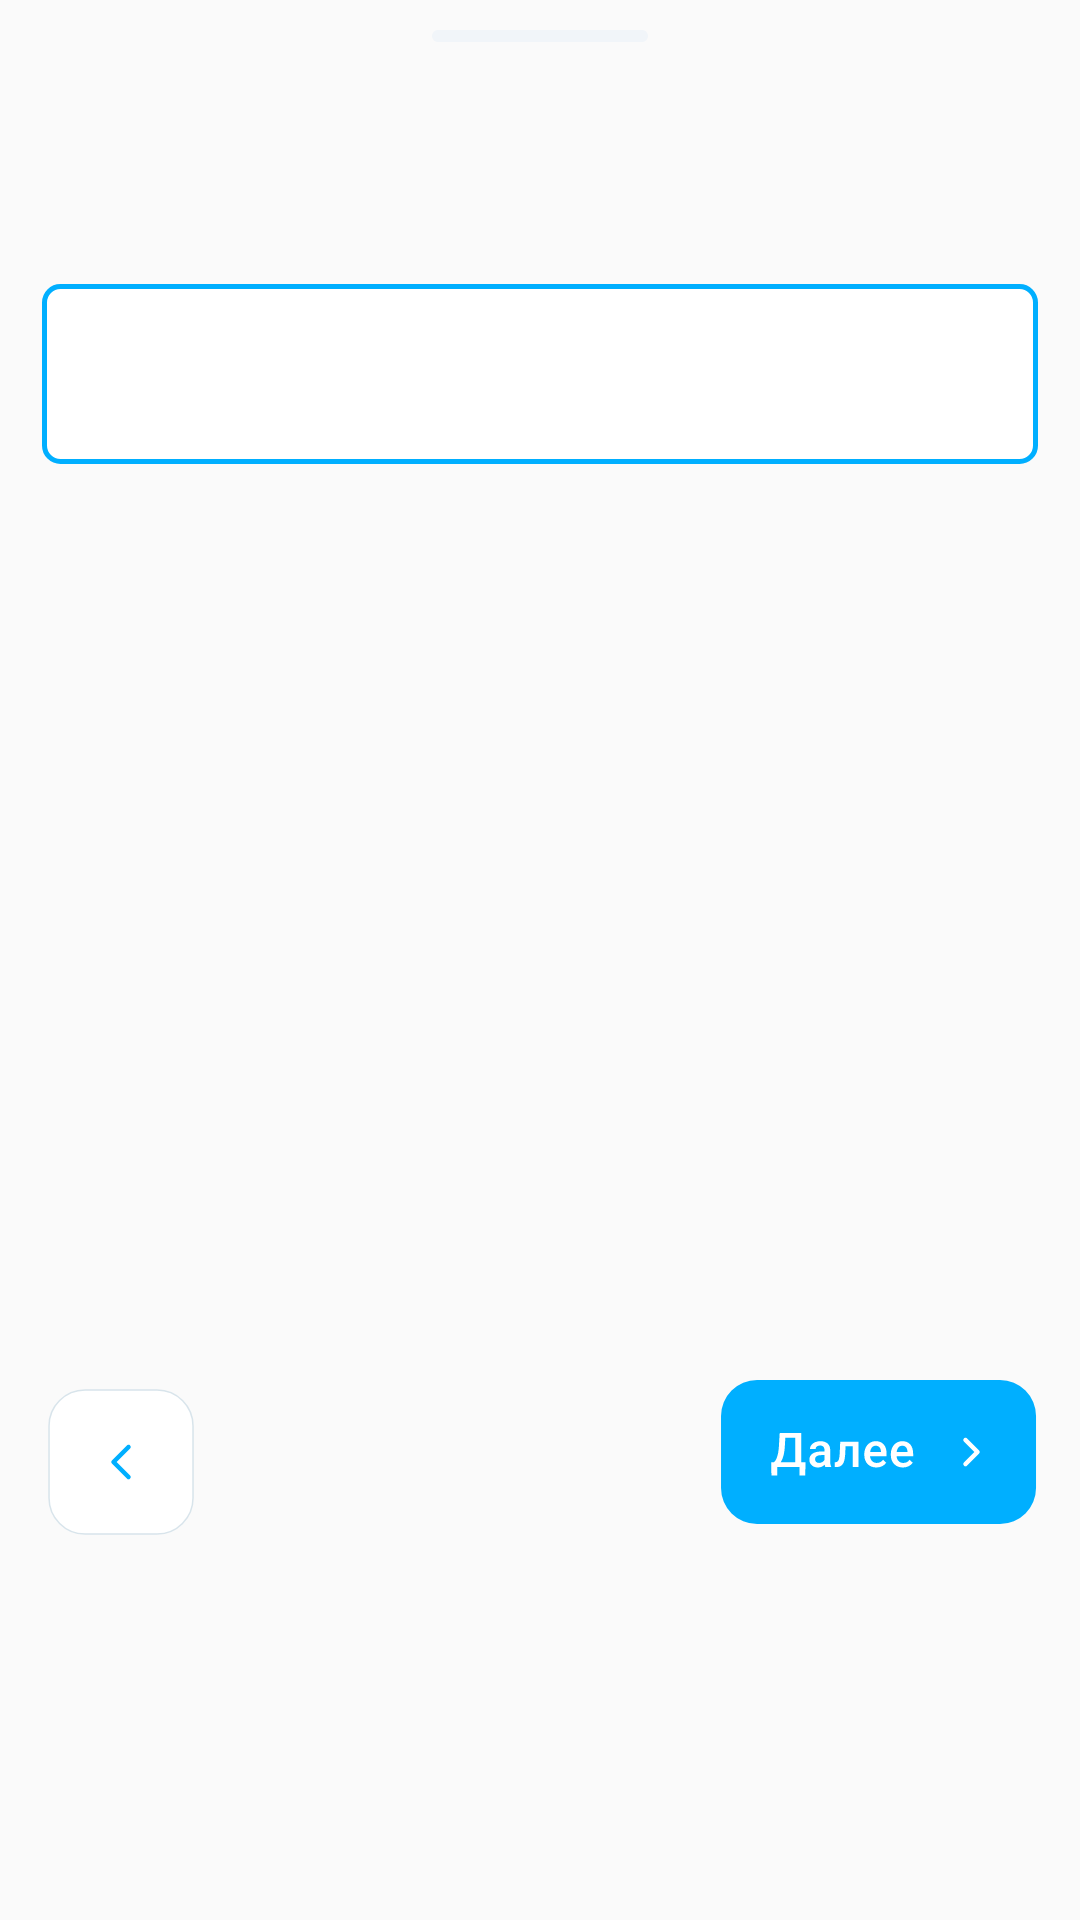

Named icons in this screenshot (1080px x 1920px) and their bounding boxes, Rect(x1, y1, x2, y2):
back: Rect(48, 1389, 194, 1535)
